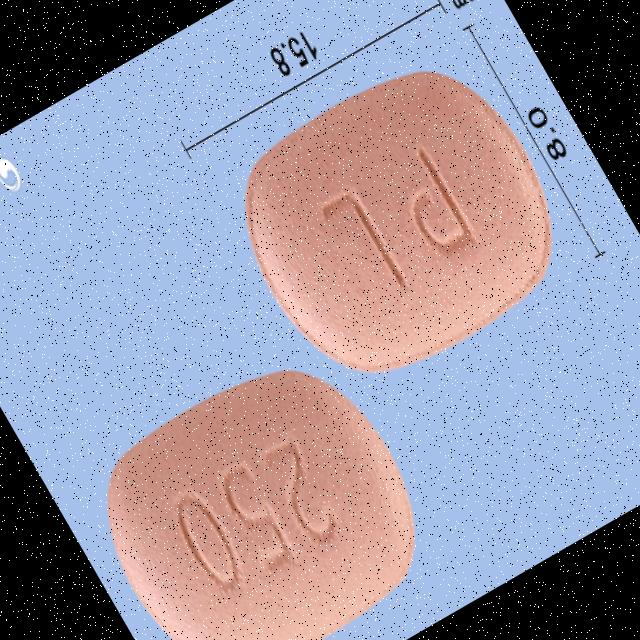Levoxacin -500mg: (207, 36, 591, 410), (67, 333, 452, 640)
